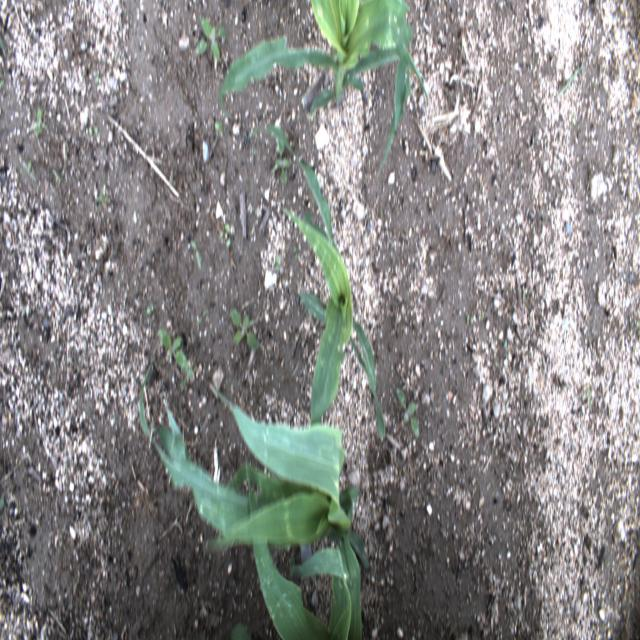crop: (136, 363, 367, 638), (265, 123, 388, 447), (219, 0, 429, 170)
weed: (191, 14, 226, 67), (226, 306, 263, 351), (396, 384, 423, 442), (158, 328, 192, 370), (24, 104, 48, 132)
